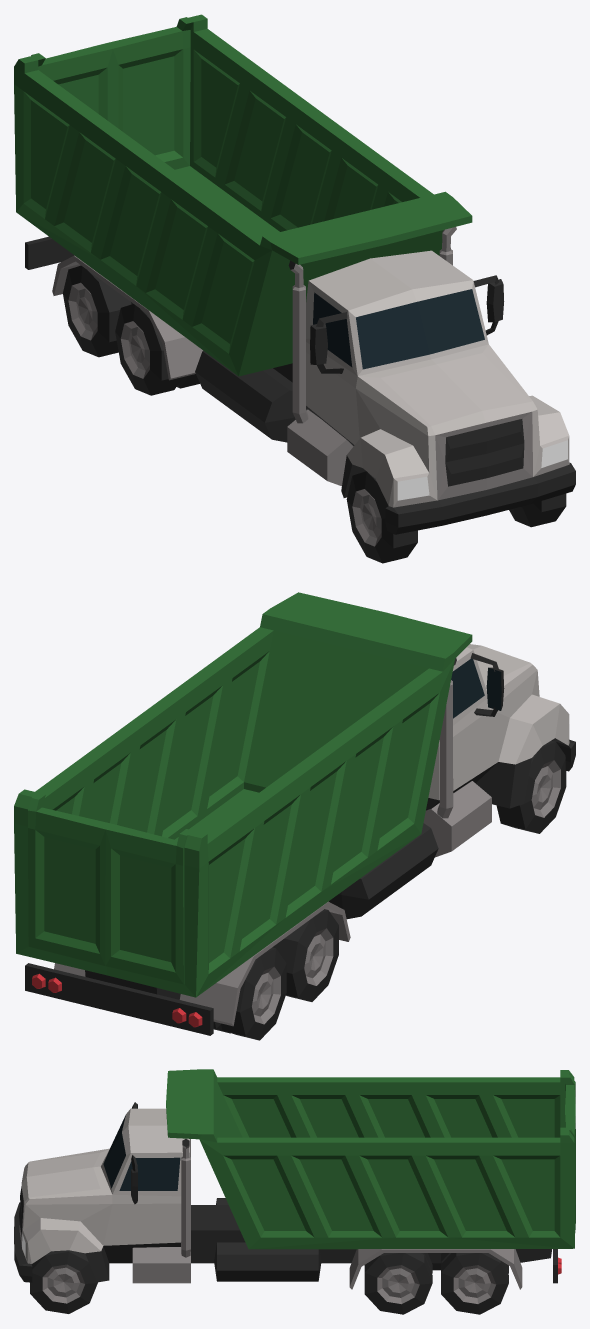
Rendered from car-truck-dump.glb.
3 renders of one model, top to bottom at view 1: azimuth 30°, elevation 25°; view 2: azimuth 150°, elevation 25°; view 3: azimuth 270°, elevation 25°, orthographic. The views are drawn at different scales.
Parts seen in each view (by area): view 1: car-truck-dump-base, car-truck-dump-wheel_BR2, car-truck-dump-wheel_BR1, car-truck-dump-wheel_FR, car-truck-dump-wheel_FL; view 2: car-truck-dump-base, car-truck-dump-wheel_BR1, car-truck-dump-wheel_BR2, car-truck-dump-wheel_FR; view 3: car-truck-dump-base, car-truck-dump-wheel_BL1, car-truck-dump-wheel_BL2, car-truck-dump-wheel_FL.
Part boxes in pixels (bbox=[...]): car-truck-dump-base: bbox=[14, 14, 575, 534]; car-truck-dump-wheel_BR2: bbox=[63, 265, 133, 357]; car-truck-dump-wheel_BR1: bbox=[115, 304, 199, 395]; car-truck-dump-wheel_FR: bbox=[346, 471, 417, 563]; car-truck-dump-wheel_FL: bbox=[509, 493, 566, 527]; car-truck-dump-base: bbox=[14, 592, 575, 1035]; car-truck-dump-wheel_BR1: bbox=[272, 909, 338, 1001]; car-truck-dump-wheel_BR2: bbox=[213, 947, 286, 1040]; car-truck-dump-wheel_FR: bbox=[496, 740, 566, 833]; car-truck-dump-base: bbox=[14, 1069, 575, 1289]; car-truck-dump-wheel_BL1: bbox=[364, 1253, 432, 1314]; car-truck-dump-wheel_BL2: bbox=[441, 1253, 508, 1314]; car-truck-dump-wheel_FL: bbox=[30, 1250, 97, 1313].
Size of the model in its own units: 2.57 by 3.19 by 8.94.
Materials: 1 (1 with a texture image).
